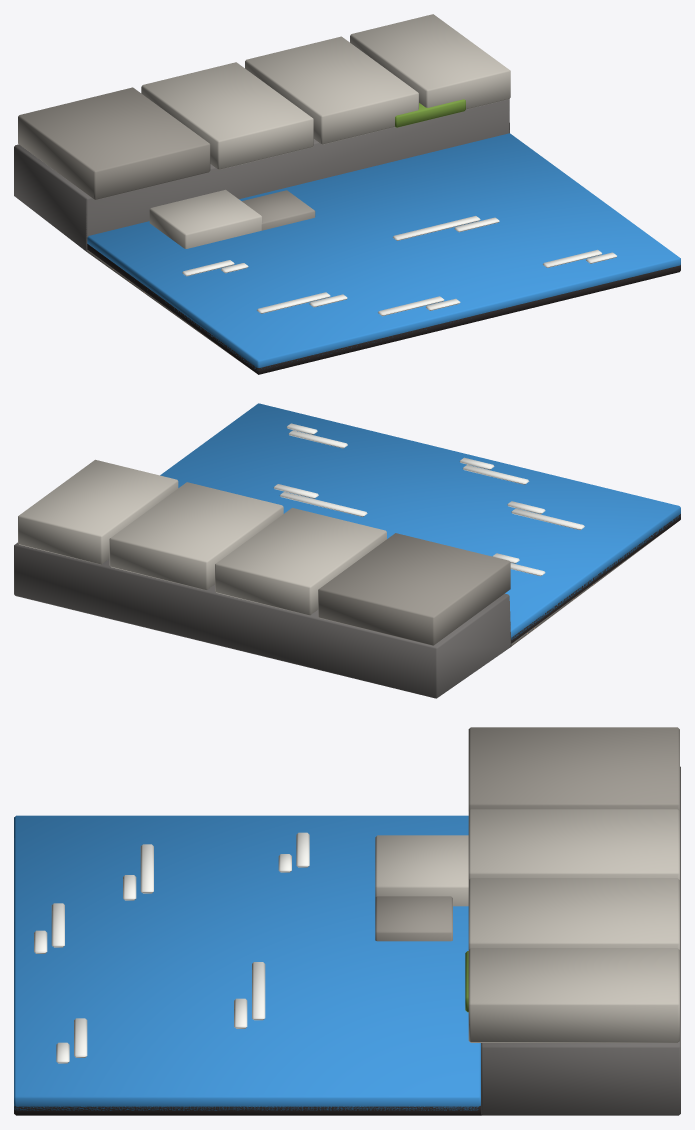
The model's file is B_MedMoatEdge.fbx.
3 renders of one model, top to bottom at view 1: azimuth 30°, elevation 25°; view 2: azimuth 150°, elevation 25°; view 3: azimuth 270°, elevation 25°, orthographic. The views are drawn at different scales.
Parts seen in each view (by area): view 1: M_MoatEdge; view 2: M_MoatEdge; view 3: M_MoatEdge.
Part boxes in pixels (x1,y1,x2,y2): M_MoatEdge: (14, 14, 680, 374); M_MoatEdge: (14, 403, 680, 698); M_MoatEdge: (14, 727, 680, 1115).
Size of the model in its own units: 3 by 0.56 by 3.
Materials: 1 (1 with a texture image).
